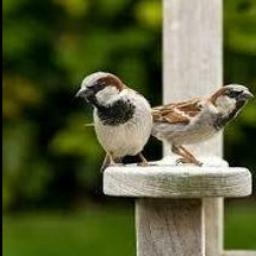Sparrow: (85, 83, 256, 166), (76, 70, 158, 166)
